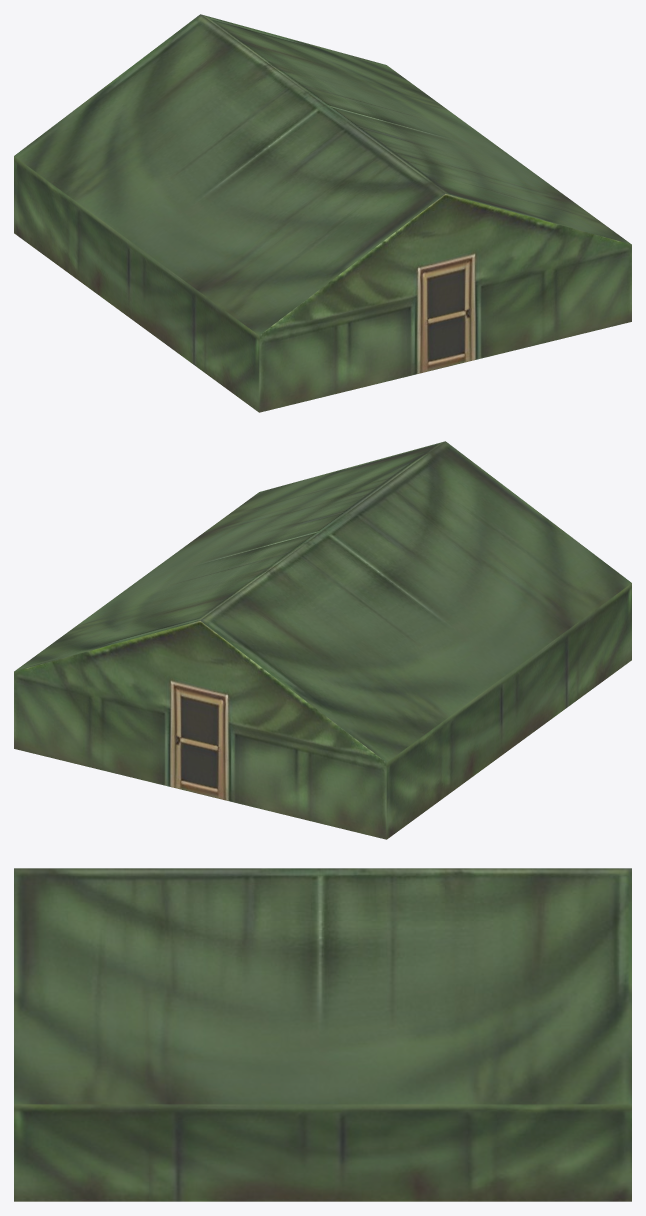
The model's file is tent_hdtex.glb.
3 renders of one model, top to bottom at view 1: azimuth 30°, elevation 25°; view 2: azimuth 150°, elevation 25°; view 3: azimuth 270°, elevation 25°, orthographic. The views are drawn at different scales.
Parts seen in each view (by area): view 1: Tent1; view 2: Tent1; view 3: Tent1.
Part boxes in pixels (bbox=[...]): Tent1: bbox=[14, 14, 631, 412]; Tent1: bbox=[14, 441, 631, 839]; Tent1: bbox=[14, 868, 631, 1201].
Bounding box in the file's own units: 7.11 × 3.16 × 8.11.
1 material, 1 textured.
